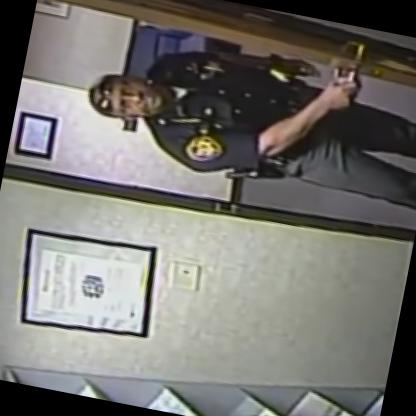Human Body: (68, 5, 415, 223)
